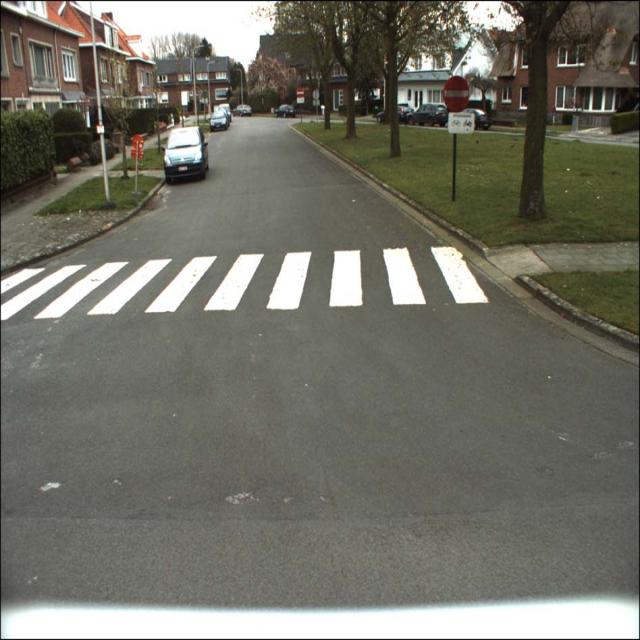girisyok: (443, 76, 470, 112)
